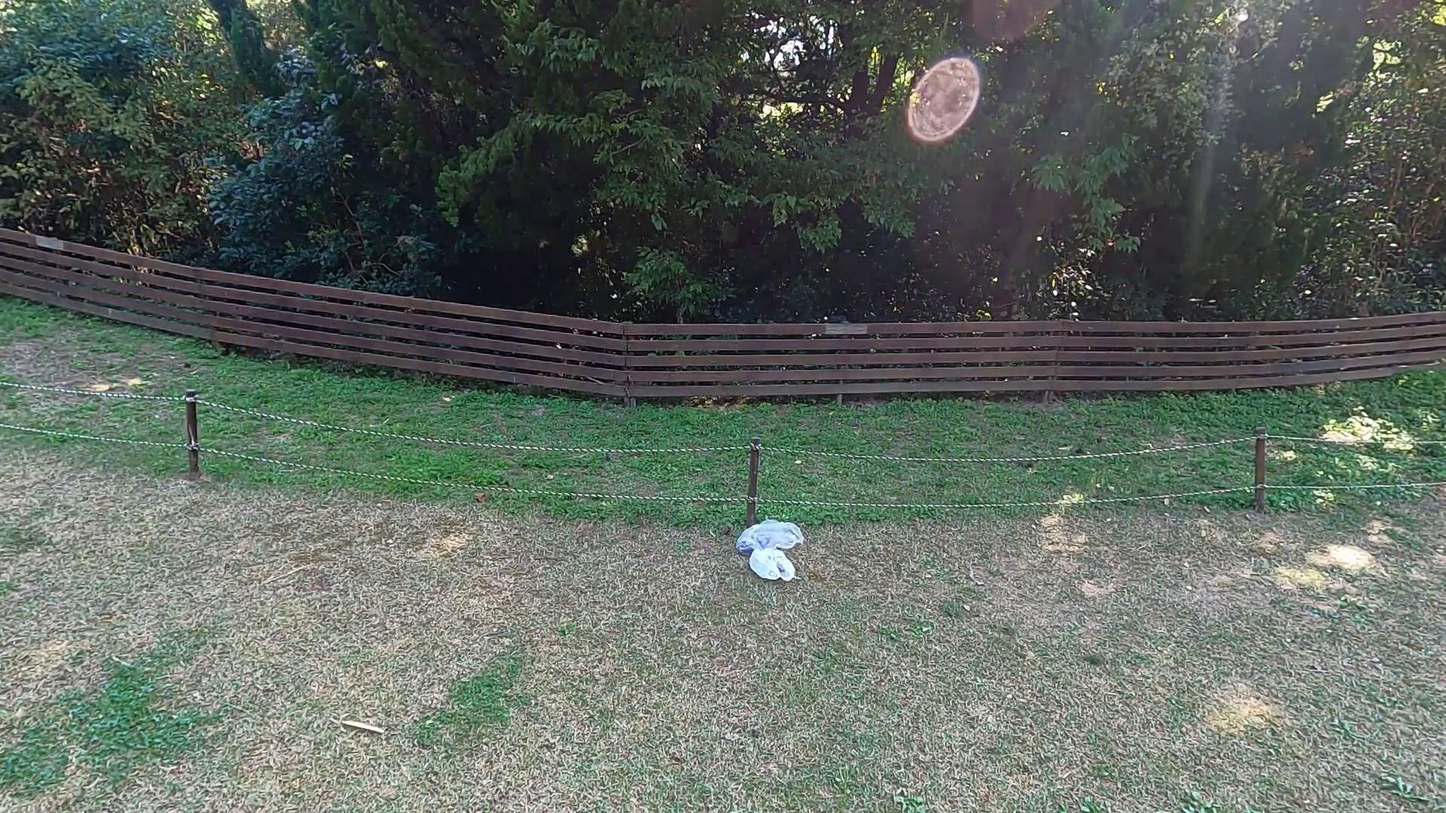trash: (737, 516, 805, 557), (746, 548, 803, 584)
